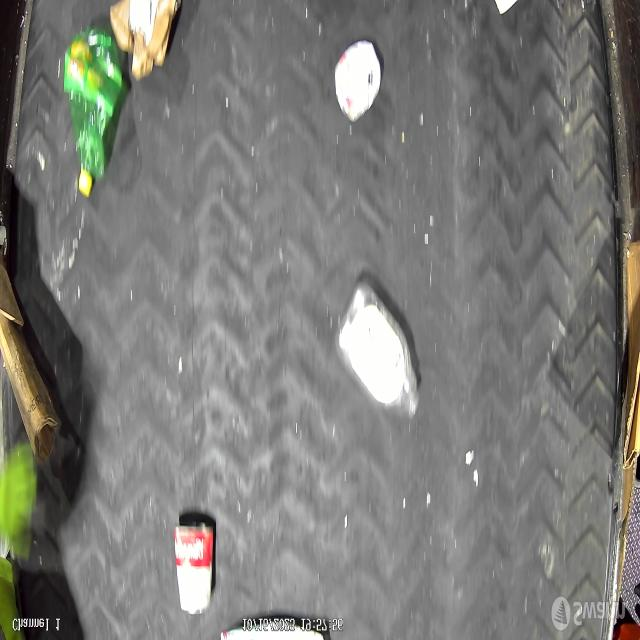can: (174, 512, 218, 618)
plastic_bottle: (62, 22, 132, 201)
